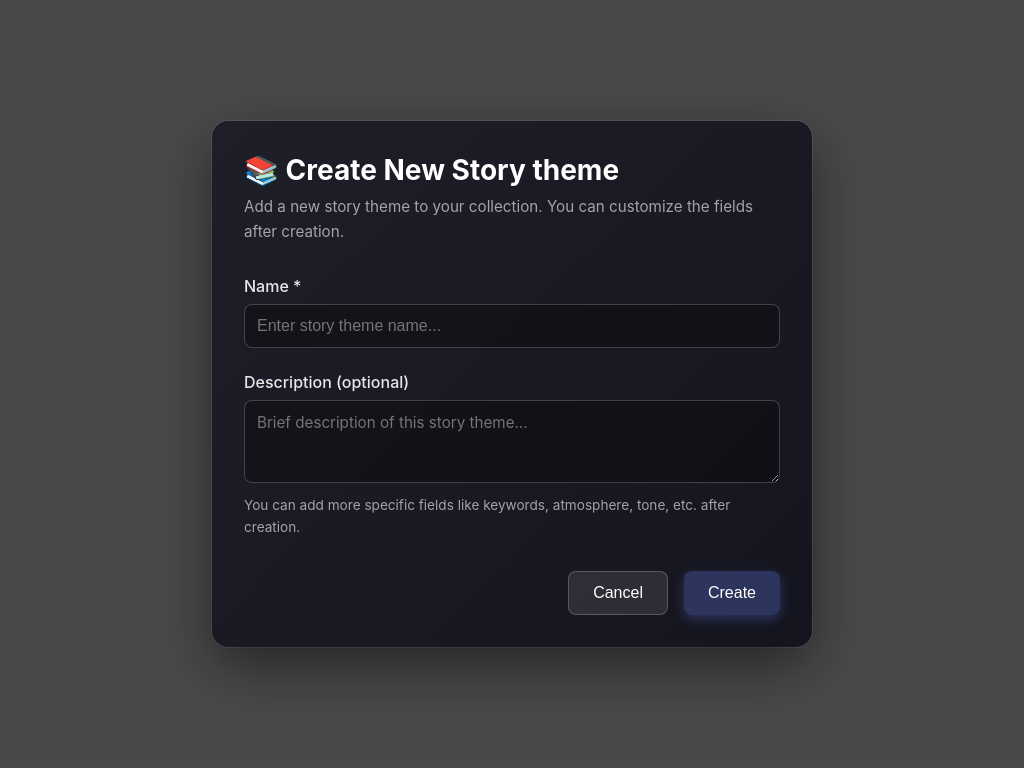
Scenario: StoryPresetModal › displays error message on API failure
// Fill in and submit
Type "Test Theme" into the field with placeholder "Enter story theme name..." at (512, 326), box [244,304,780,348]
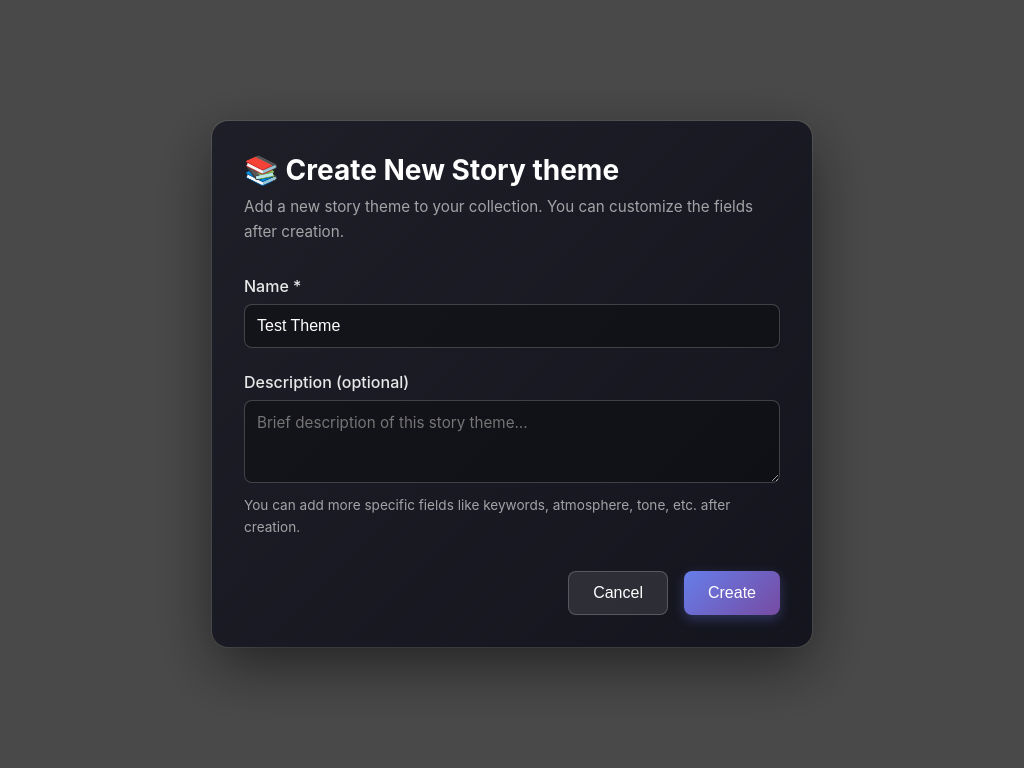
Click the button "Create" at (732, 593), box [684,571,780,615]
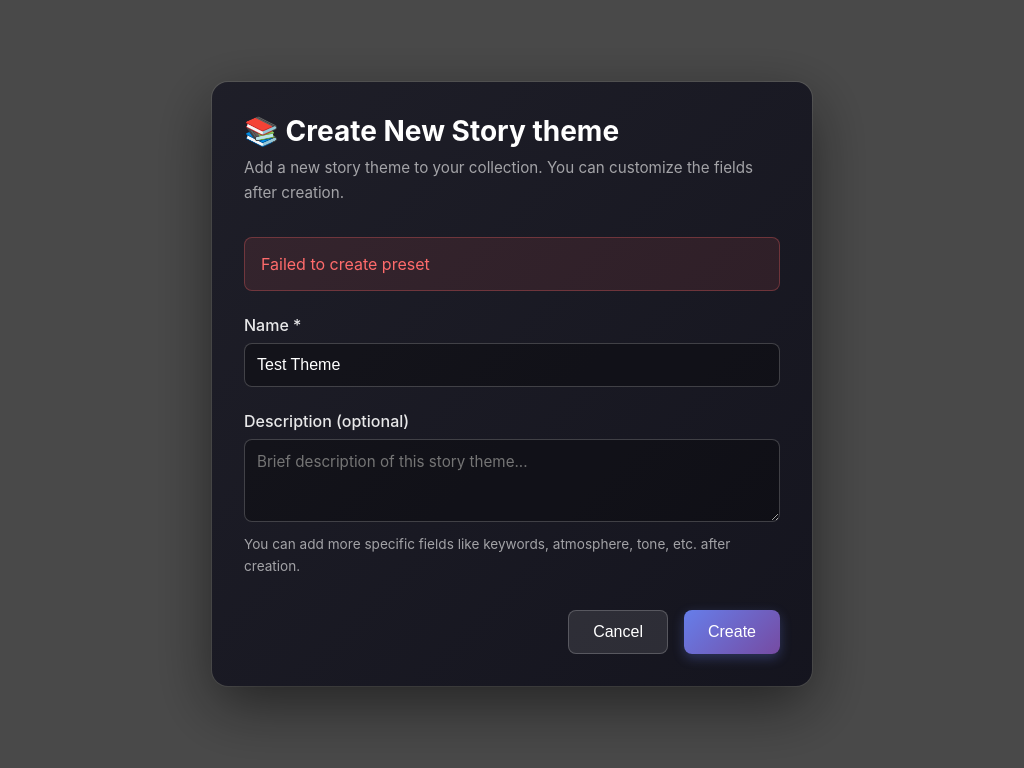
Expected: the text "Failed to create preset" is shown, [244,237,780,291]
